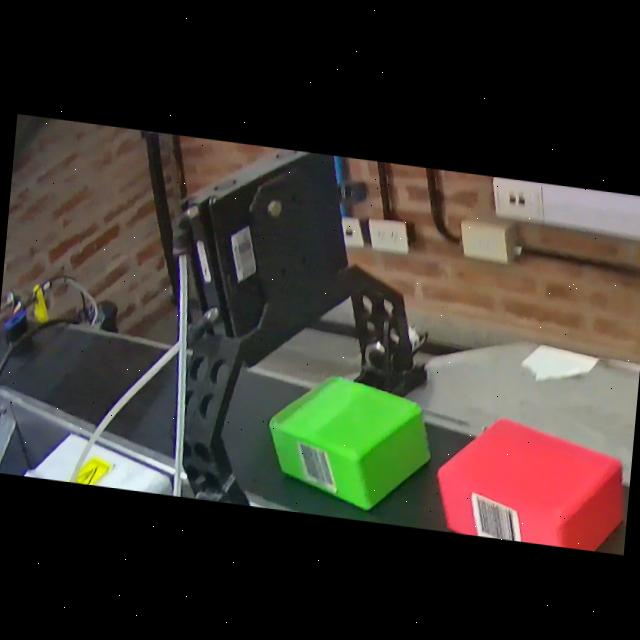greenBox: (260, 362, 440, 522)
redBox: (430, 400, 632, 549)
